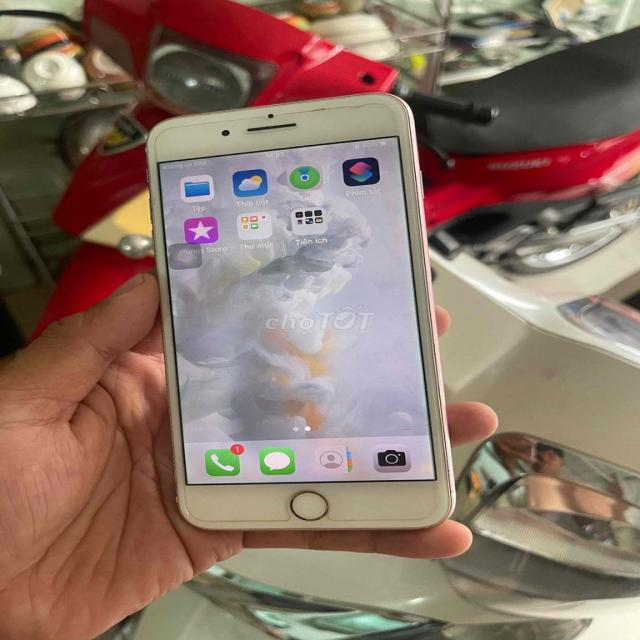scratch: (150, 98, 404, 166), (130, 186, 171, 252), (158, 486, 201, 514), (440, 475, 464, 509)
